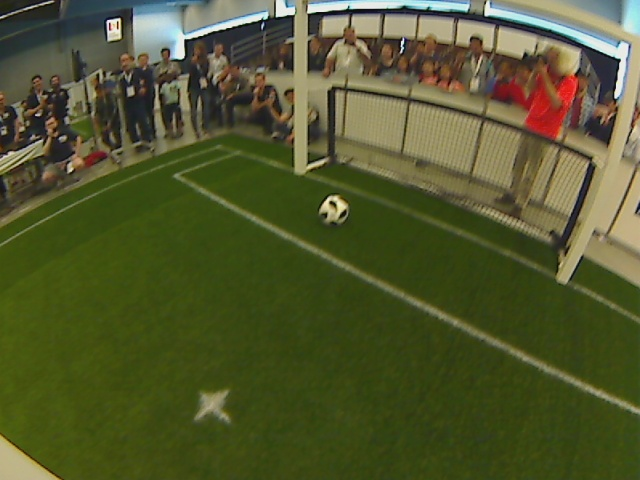ball: (316, 194, 350, 226)
